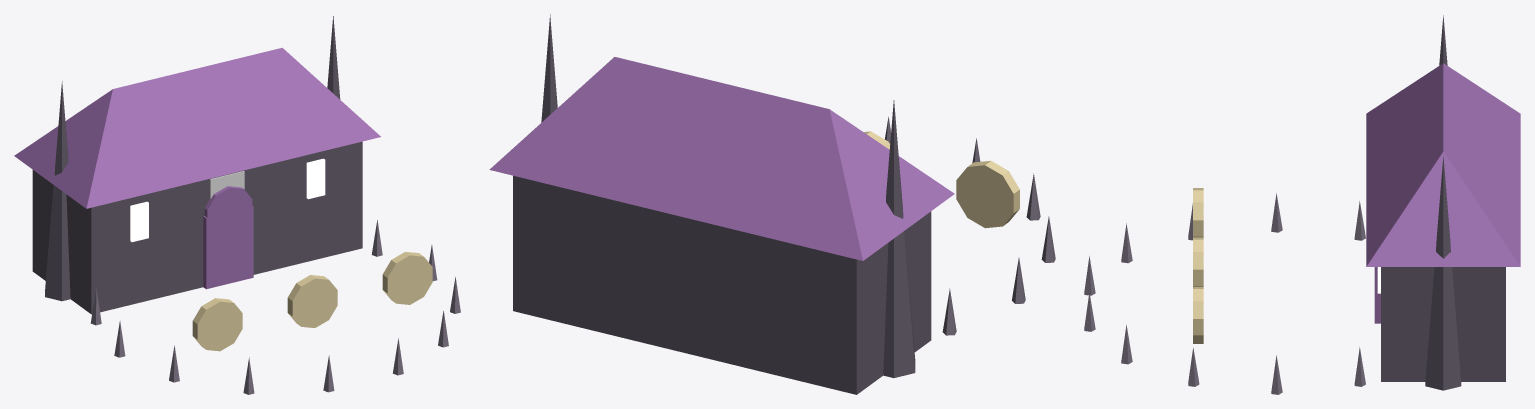
3 views of the same model, side by side, from view 1: azimuth 30°, elevation 25°; view 2: azimuth 150°, elevation 25°; view 3: azimuth 270°, elevation 25° (orthographic). The views are drawn at different scales.
Visible parts, largest first — view 1: body; view 2: body; view 3: body.
Part boxes in pixels (x1=…): body: x1=14, y1=16, x2=460, y2=394; body: x1=489, y1=14, x2=1055, y2=394; body: x1=1084, y1=15, x2=1520, y2=394.
Bounding box in the file's own units: 9.49 × 6 × 10.46.
